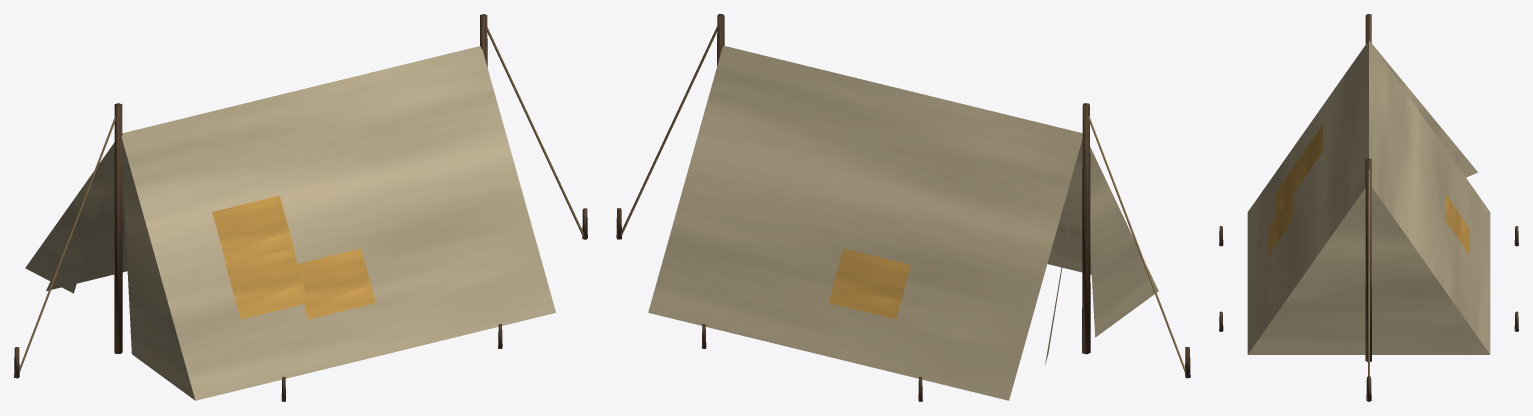
File: Tent_Pilgrim_2.gltf
3 renders of one model, left to right at view 1: azimuth 30°, elevation 25°; view 2: azimuth 150°, elevation 25°; view 3: azimuth 270°, elevation 25°, orthographic. The views are drawn at different scales.
Parts seen in each view (by area): view 1: Tent_Pilgrim_2; view 2: Tent_Pilgrim_2; view 3: Tent_Pilgrim_2.
Boxes of the visible parts, <box> form: Tent_Pilgrim_2: <box>14,14,587,401</box>; Tent_Pilgrim_2: <box>616,14,1190,401</box>; Tent_Pilgrim_2: <box>1219,14,1518,401</box>.
Size of the model in its own units: 7.64 by 3.16 by 4.26.
4 materials, 4 textured.
